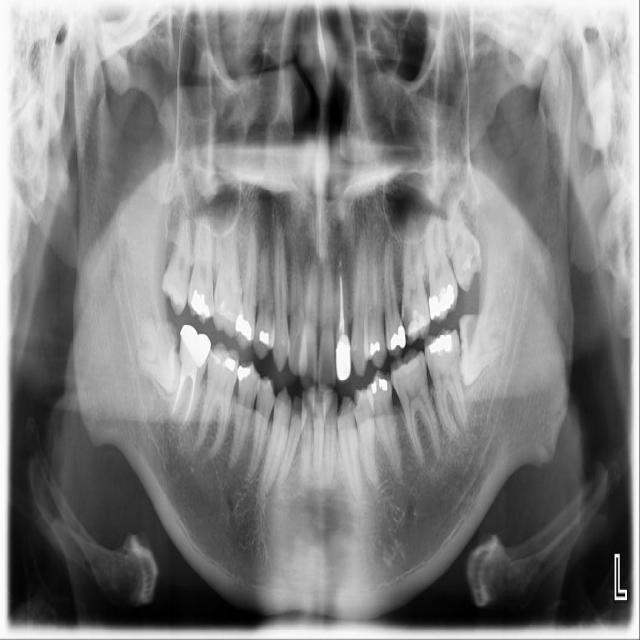Caries: (402, 306, 413, 331)
Crown: (178, 323, 212, 372), (333, 333, 352, 383)
Filling: (428, 285, 455, 319), (211, 345, 238, 379), (187, 289, 213, 322), (406, 307, 431, 341), (425, 331, 454, 360), (387, 323, 409, 351), (231, 312, 252, 341), (367, 374, 391, 398), (255, 326, 273, 349), (236, 362, 255, 383), (217, 300, 236, 321), (367, 337, 384, 357)
Root Canal Treatment: (182, 381, 197, 421), (171, 377, 186, 411), (339, 278, 345, 336)
impacted tooth: (459, 306, 516, 381), (134, 313, 178, 395)
